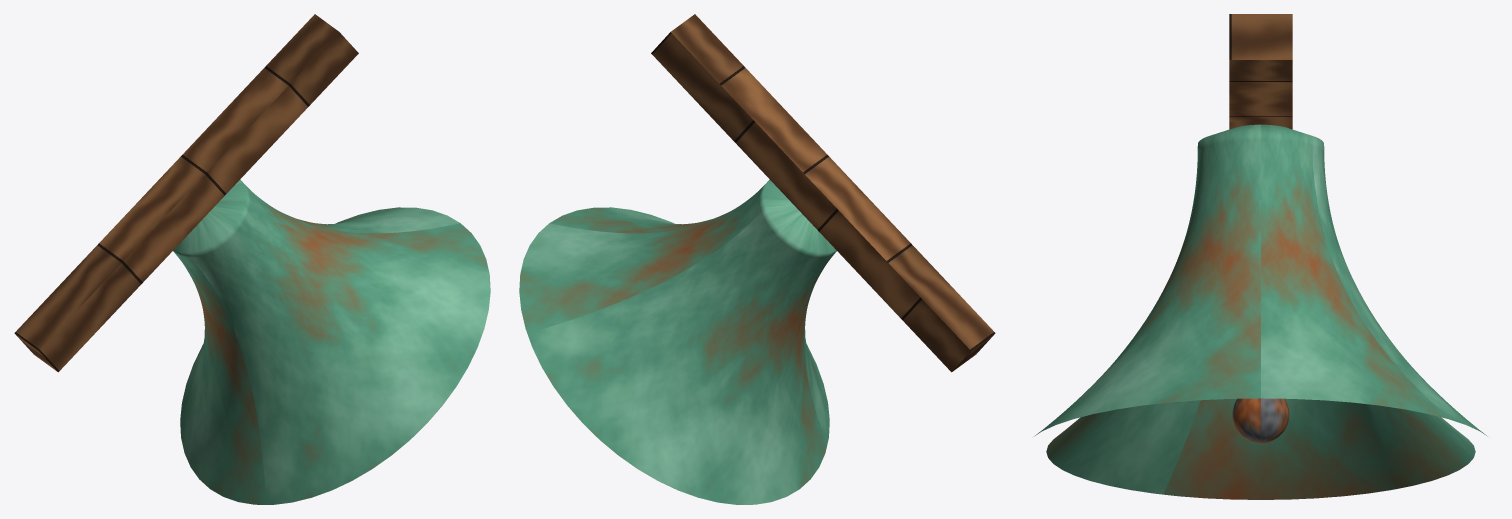
File: church_bell.gltf
3 views of the same model, side by side, from view 1: azimuth 30°, elevation 25°; view 2: azimuth 150°, elevation 25°; view 3: azimuth 270°, elevation 25° (orthographic). The views are drawn at different scales.
Parts seen in each view (by area): view 1: church_bell; view 2: church_bell; view 3: church_bell.
Part boxes in pixels (x1,y1,x2,y2): church_bell: [14, 14, 490, 504]; church_bell: [519, 14, 995, 504]; church_bell: [1034, 14, 1487, 499].
Size of the model in its own units: 2.05 by 1.97 by 1.5.
3 materials, 3 textured.
